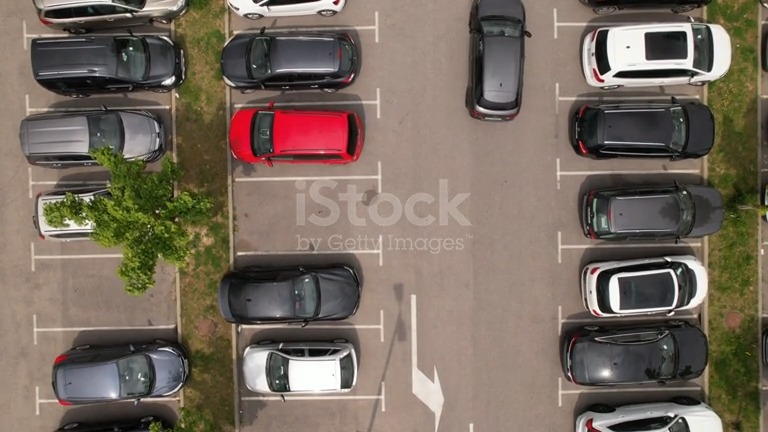car: (582, 17, 731, 89), (30, 32, 184, 97), (562, 321, 707, 385), (52, 339, 189, 405), (221, 28, 359, 92), (19, 107, 165, 167), (570, 97, 713, 158), (230, 101, 363, 166), (219, 264, 360, 325), (582, 182, 722, 242), (580, 255, 707, 317), (466, 0, 530, 119), (242, 339, 357, 398), (575, 396, 722, 431), (33, 187, 110, 239)
